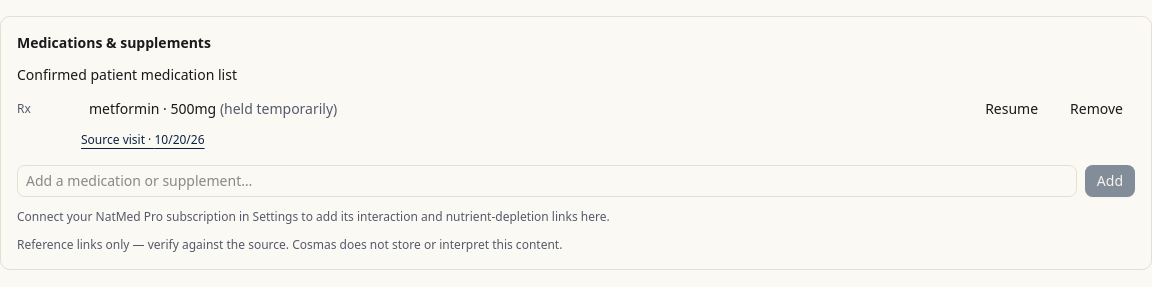
Test case: MedicationPanel › keeps Resume and a manual draft without enabling a missing release control
Expected: the button "Resume" is shown, [973,93,1050,125]
Expected: the list item with test id "confirmed-medication" shows "held temporarily", [220,99,337,118]
Step 1. Type "Unsaved synthetic entry" into the field labelled "Add a medication or supplement…" → (547, 181), box [17,165,1077,197]
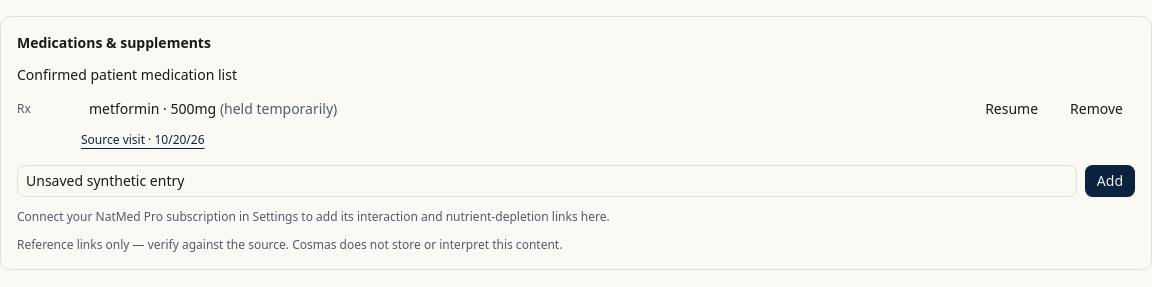
Step 2. Click the button "Resume" → click(1012, 109), box [973,93,1050,125]
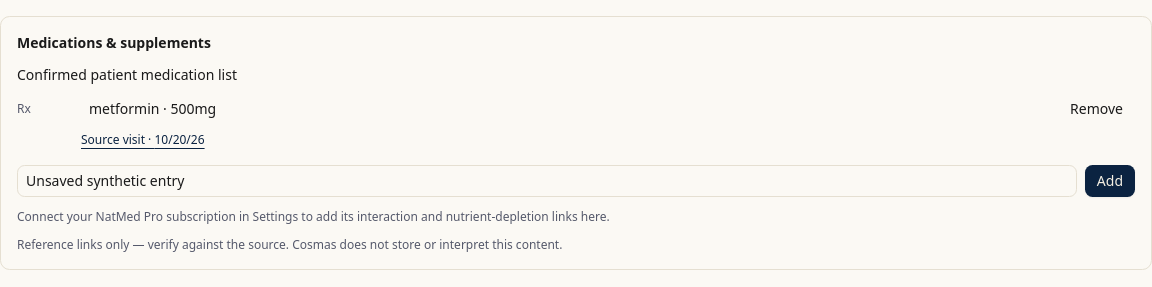
Expected: the button "Resume" is gone
